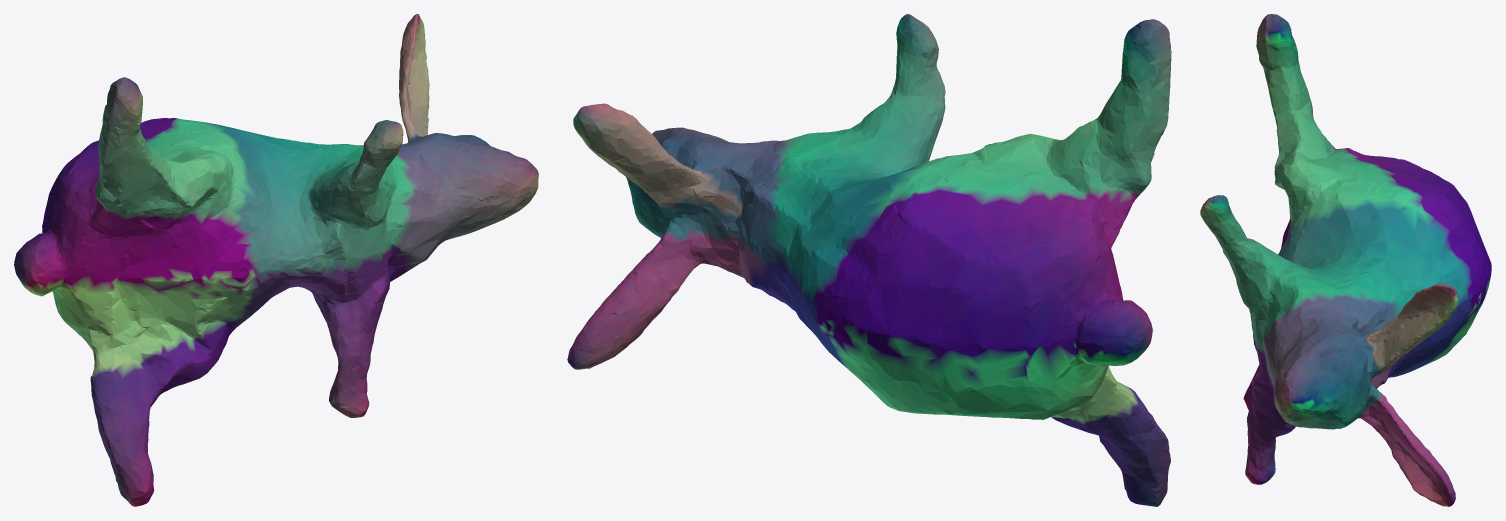
Rendered from rabbit-16.off.obj.
The picture shows the model from 3 angles, left to right: view 1: azimuth 30°, elevation 25°; view 2: azimuth 150°, elevation 25°; view 3: azimuth 270°, elevation 25°; orthographic projection. The views are drawn at different scales.
Size of the model in its own units: 1.52 by 1.29 by 0.8515.
